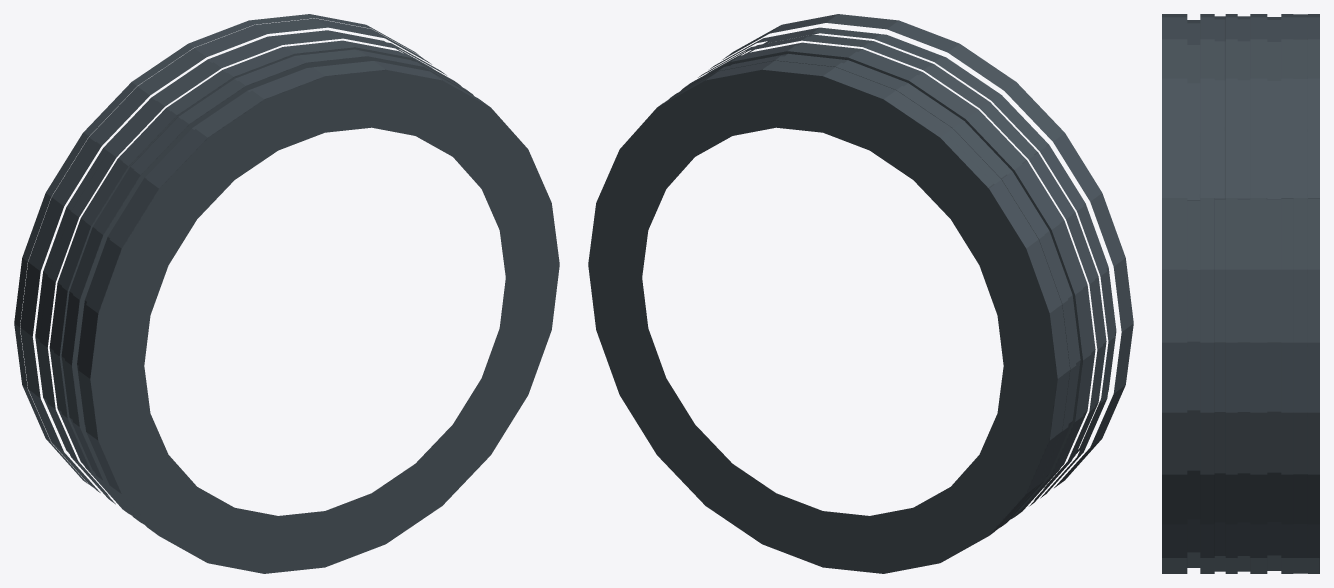
File: prop-tyre-bare.glb
The picture shows the model from 3 angles, left to right: view 1: azimuth 30°, elevation 25°; view 2: azimuth 150°, elevation 25°; view 3: azimuth 270°, elevation 25°; orthographic projection. The views are drawn at different scales.
Visible parts, largest first — view 1: Node; view 2: Node; view 3: Node.
Boxes of the visible parts, bbox=[...] form: Node: bbox=[14, 14, 559, 573]; Node: bbox=[588, 14, 1133, 573]; Node: bbox=[1162, 14, 1319, 573].
Size of the model in its own units: 183 by 183 by 51.42.
Materials: 1 (1 with a texture image).
